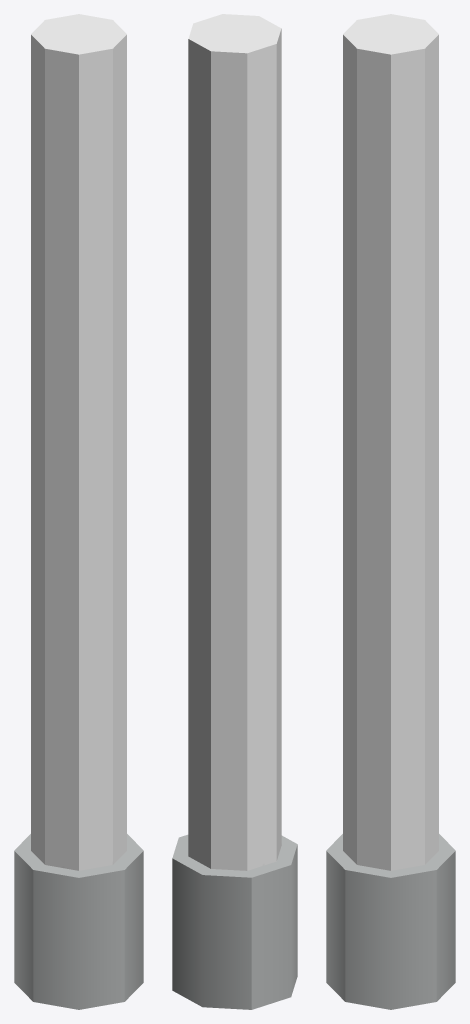
Rendered from Luz_2.obj.
3 renders of one model, left to right at view 1: azimuth 90°, elevation 25°; view 2: azimuth 150°, elevation 25°; view 3: azimuth 270°, elevation 25°, orthographic.
Parts seen in each view (by area): view 1: Lampara polySurface4, polySurface3 Lampara; view 2: Lampara polySurface4, polySurface3 Lampara; view 3: Lampara polySurface4, polySurface3 Lampara.
Boxes of the visible parts, <box> form: Lampara polySurface4: <box>31,14,126,870</box>; polySurface3 Lampara: <box>14,834,143,1009</box>; Lampara polySurface4: <box>188,14,281,870</box>; polySurface3 Lampara: <box>172,834,297,1009</box>; Lampara polySurface4: <box>343,14,438,870</box>; polySurface3 Lampara: <box>326,834,455,1009</box>.
Bounding box in the file's own units: 29.6 × 239 × 29.6.
